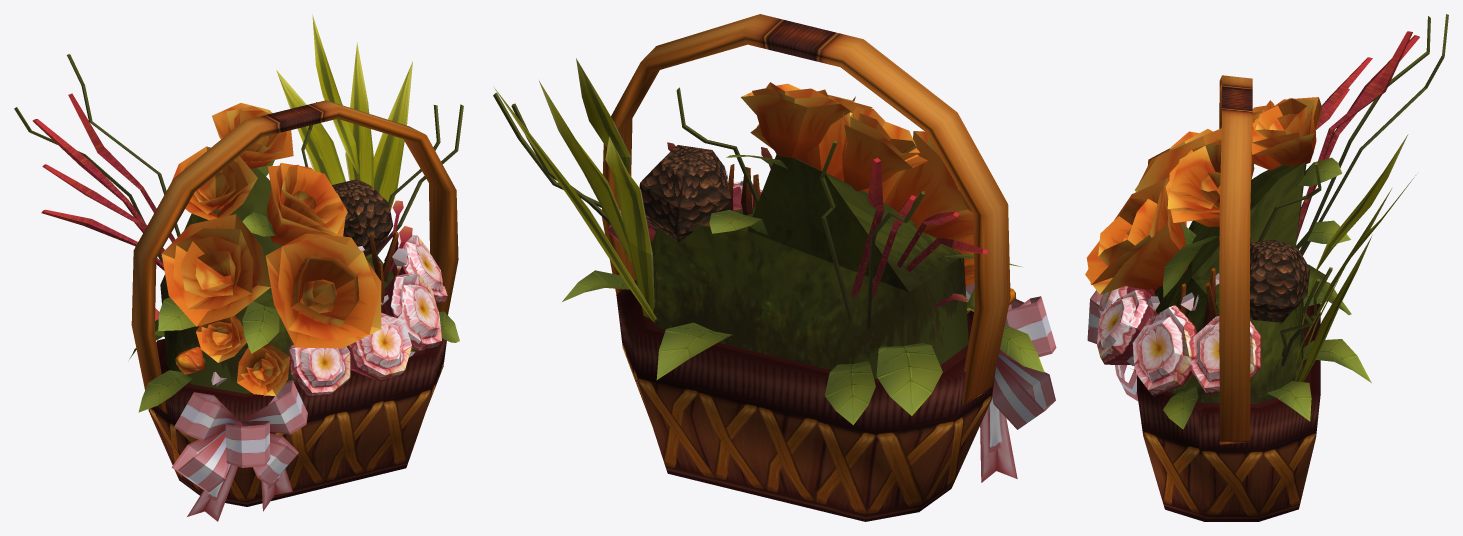
File: Flower01.fbx
The picture shows the model from 3 angles, left to right: view 1: azimuth 30°, elevation 25°; view 2: azimuth 150°, elevation 25°; view 3: azimuth 270°, elevation 25°; orthographic projection. The views are drawn at different scales.
Parts seen in each view (by area): view 1: Flower01m; view 2: Flower01m; view 3: Flower01m.
Boxes of the visible parts, x1,y1,x2,y2 form: Flower01m: (14, 14, 463, 521); Flower01m: (493, 14, 1056, 521); Flower01m: (1085, 14, 1448, 521).
Size of the model in its own units: 5.8 by 5.09 by 4.22.
1 material, 1 textured.
